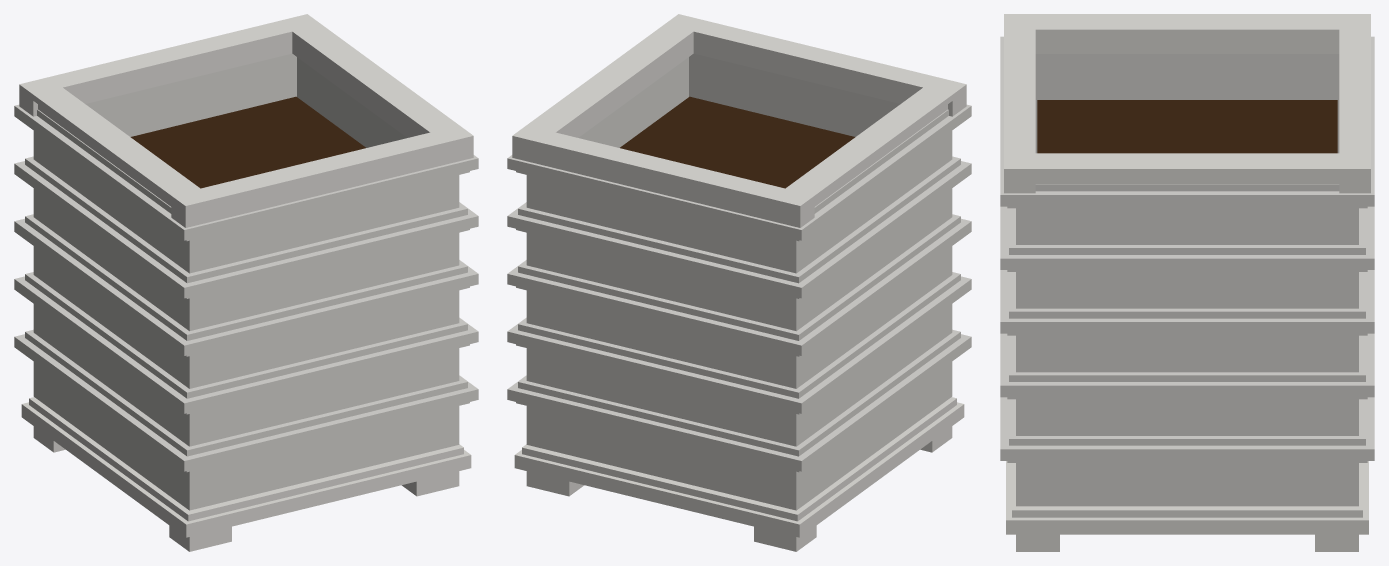
3 renders of one model, left to right at view 1: azimuth 30°, elevation 25°; view 2: azimuth 150°, elevation 25°; view 3: azimuth 270°, elevation 25°, orthographic. The views are drawn at different scales.
Parts seen in each view (by area): view 1: front-wall, left-wall, soil, rim-f, rim-b, back-wall, base-lo, rim-r, base-hi, right-wall, rim-l, band-f-2-1 (+23 smaller); view 2: back-wall, left-wall, soil, rim-b, front-wall, rim-f, base-lo, rim-r, right-wall, rim-l, base-hi, band-b-2-1 (+24 smaller); view 3: right-wall, soil, left-wall, rim-l, rim-r, base-lo, rim-top-r, band-r-4-1, band-r-0-1, band-r-2-1, band-r-1-1, rim-b (+28 smaller).
Part boxes in pixels (x1,y1,x2,y2): front-wall: [180, 175, 459, 510]; left-wall: [33, 131, 204, 510]; soil: [130, 96, 365, 188]; rim-f: [171, 125, 473, 227]; rim-b: [19, 14, 321, 116]; back-wall: [34, 53, 296, 402]; base-lo: [21, 402, 471, 537]; rim-r: [279, 15, 468, 163]; base-hi: [29, 397, 463, 521]; right-wall: [297, 57, 457, 448]; rim-l: [24, 77, 214, 226]; band-f-2-1: [177, 268, 478, 355]; back-wall: [526, 175, 805, 510]; left-wall: [781, 131, 952, 510]; soil: [620, 96, 855, 188]; rim-b: [512, 125, 814, 227]; front-wall: [689, 53, 952, 402]; rim-f: [664, 14, 966, 116]; base-lo: [514, 402, 964, 537]; rim-r: [517, 15, 706, 164]; right-wall: [526, 57, 688, 443]; rim-l: [771, 77, 961, 226]; base-hi: [522, 397, 956, 521]; band-b-2-1: [507, 268, 808, 355]; right-wall: [1016, 208, 1358, 506]; soil: [1037, 100, 1337, 153]; left-wall: [1035, 54, 1339, 153]; rim-l: [1004, 16, 1370, 53]; rim-r: [1004, 153, 1370, 183]; base-lo: [1006, 461, 1368, 534]; rim-top-r: [1035, 155, 1339, 175]; band-r-4-1: [1000, 188, 1374, 206]; band-r-0-1: [1000, 445, 1374, 460]; band-r-2-1: [1000, 318, 1374, 333]; band-r-1-1: [1001, 381, 1374, 397]; rim-b: [1339, 14, 1370, 193].
Size of the model in its own units: 0.35 by 0.4 by 0.35.
